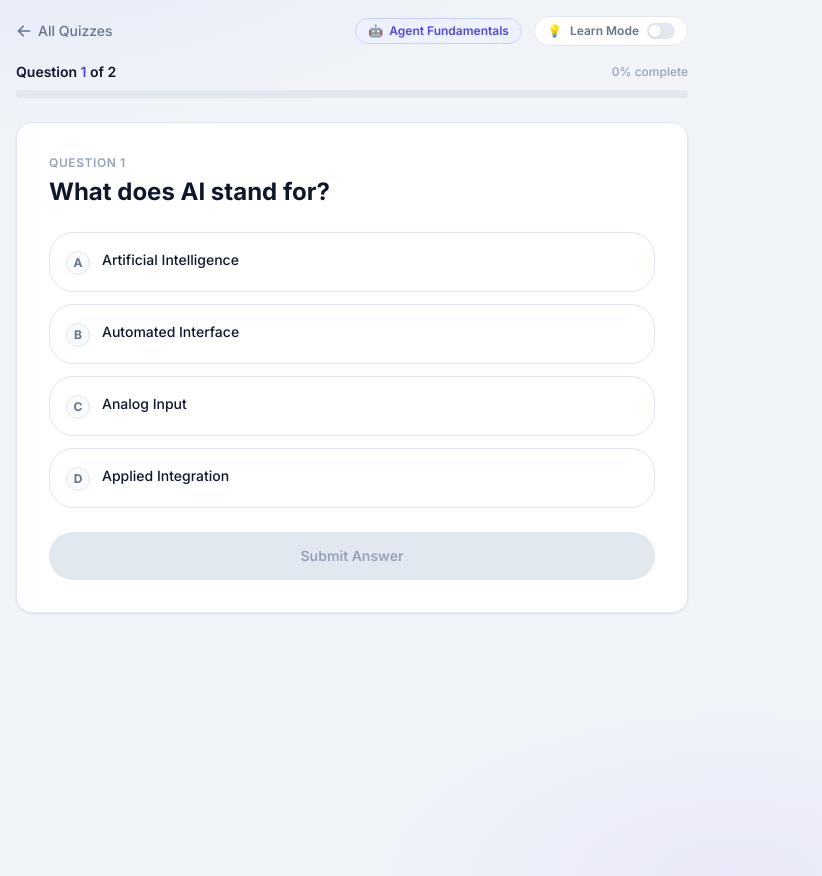
Test case: QuizPage — next question › renders the second question after clicking Next
The width and height of the screenshot is (822, 876).
Expected: the heading "What does AI stand for?" is shown, [49,177,330,206]
Click the text "Artificial Intelligence" at {"x": 170, "y": 260}, box [102,249,239,272]
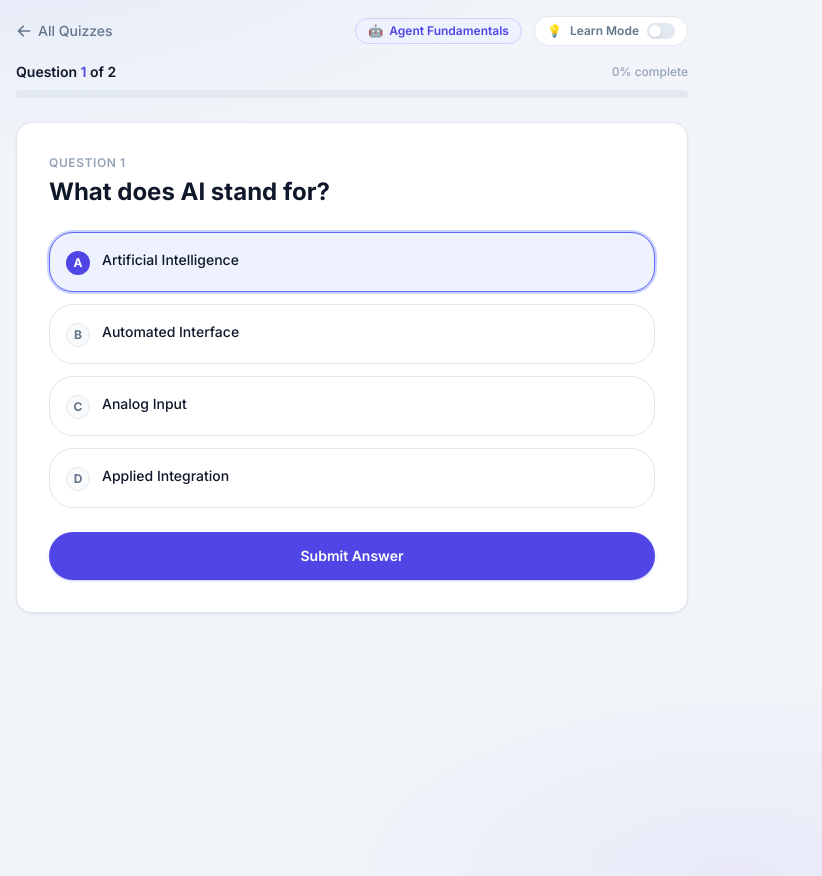
Click the button "Submit Answer" at {"x": 352, "y": 556}, box [49,532,655,580]
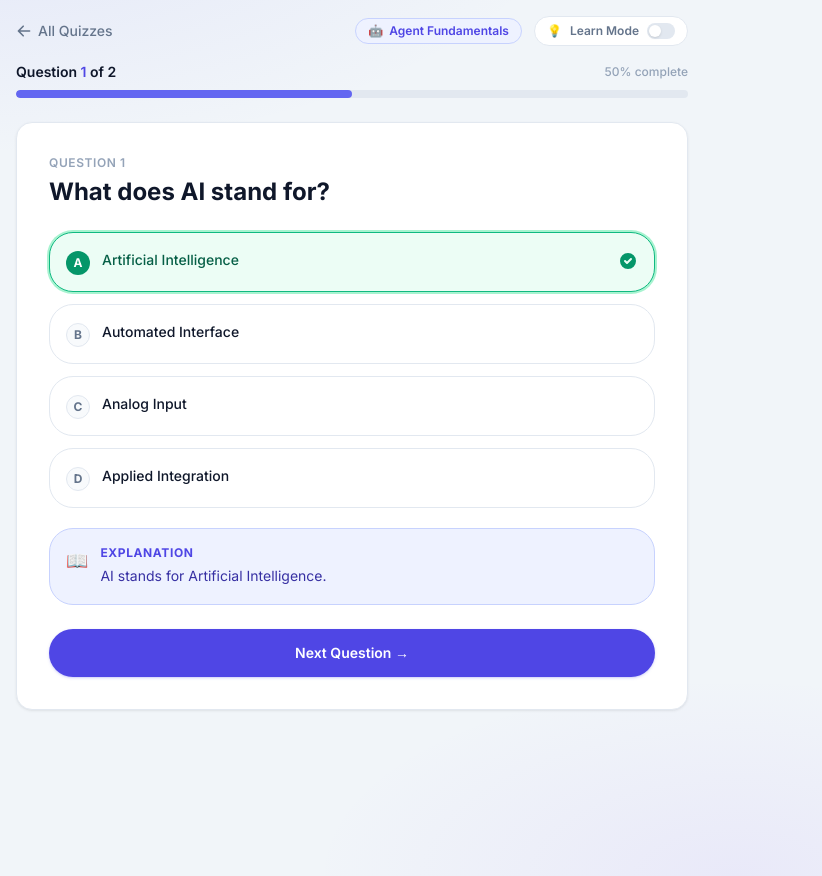
Click the button "Next Question →" at {"x": 352, "y": 653}, box [49,629,655,677]
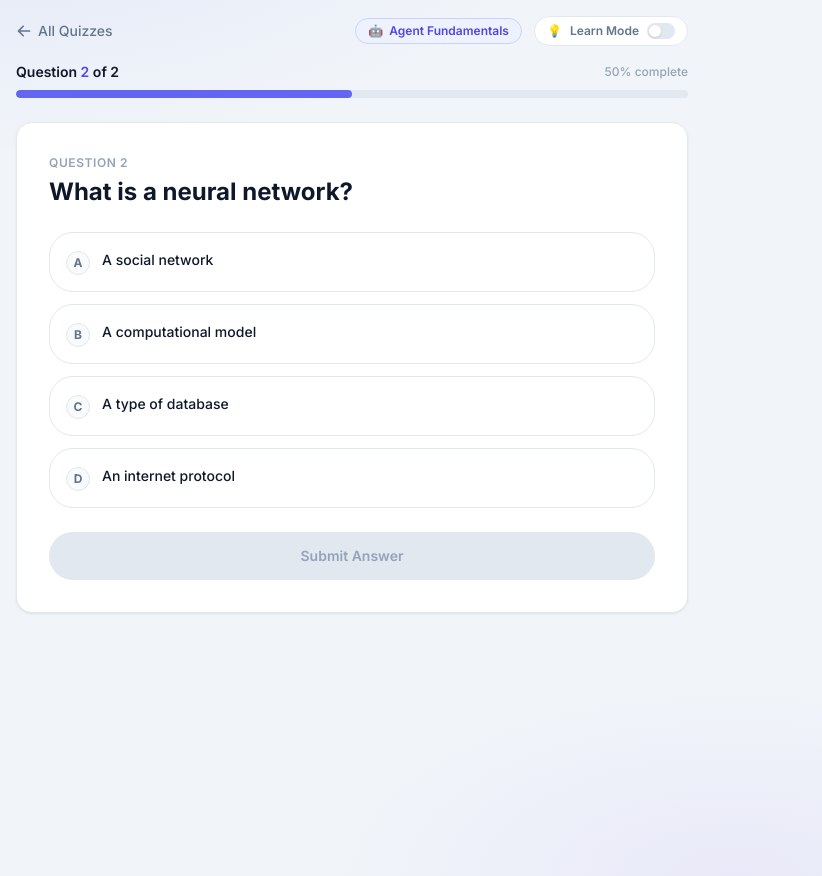
Expected: the heading "What is a neural network?" is shown, [49,177,353,206]
